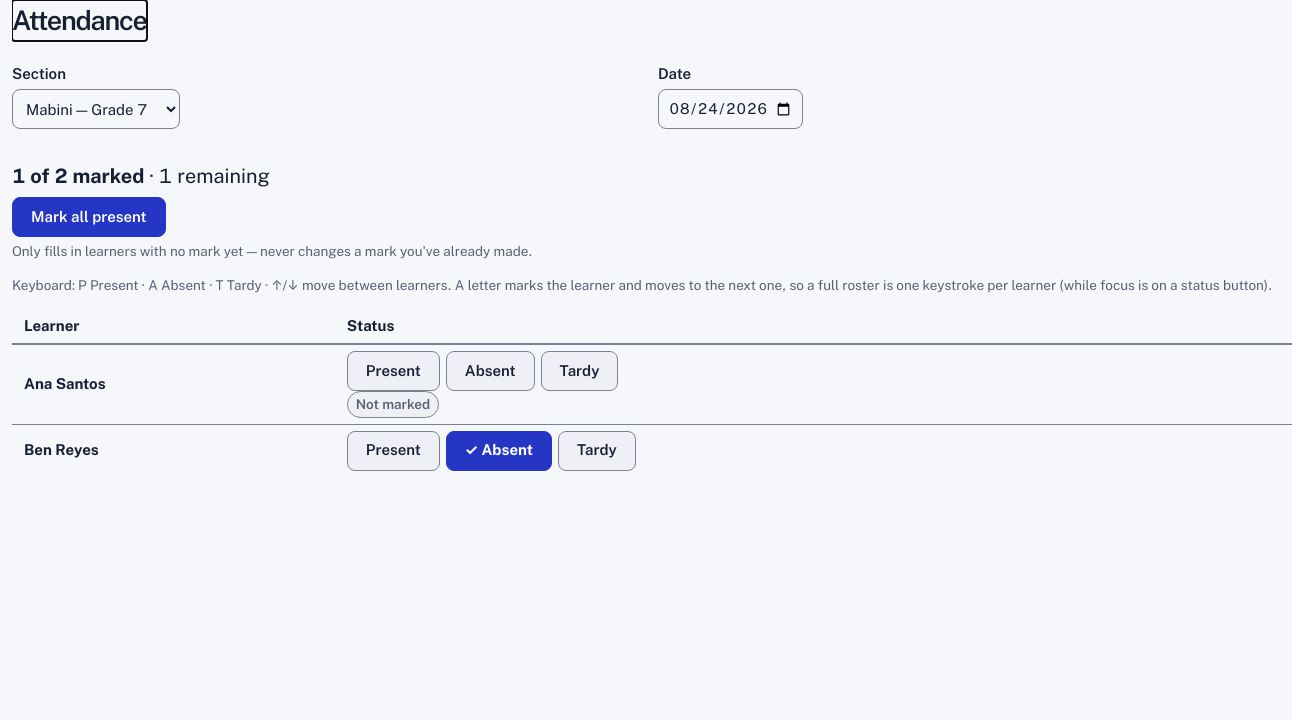
it: AttendanceScreen › marks all unmarked learners present without touching an existing mark
Expected: the column heading "Ana Santos" is shown, [12, 344, 335, 424]
Click the button "Mark all present" at (89, 217), box [12, 197, 166, 237]
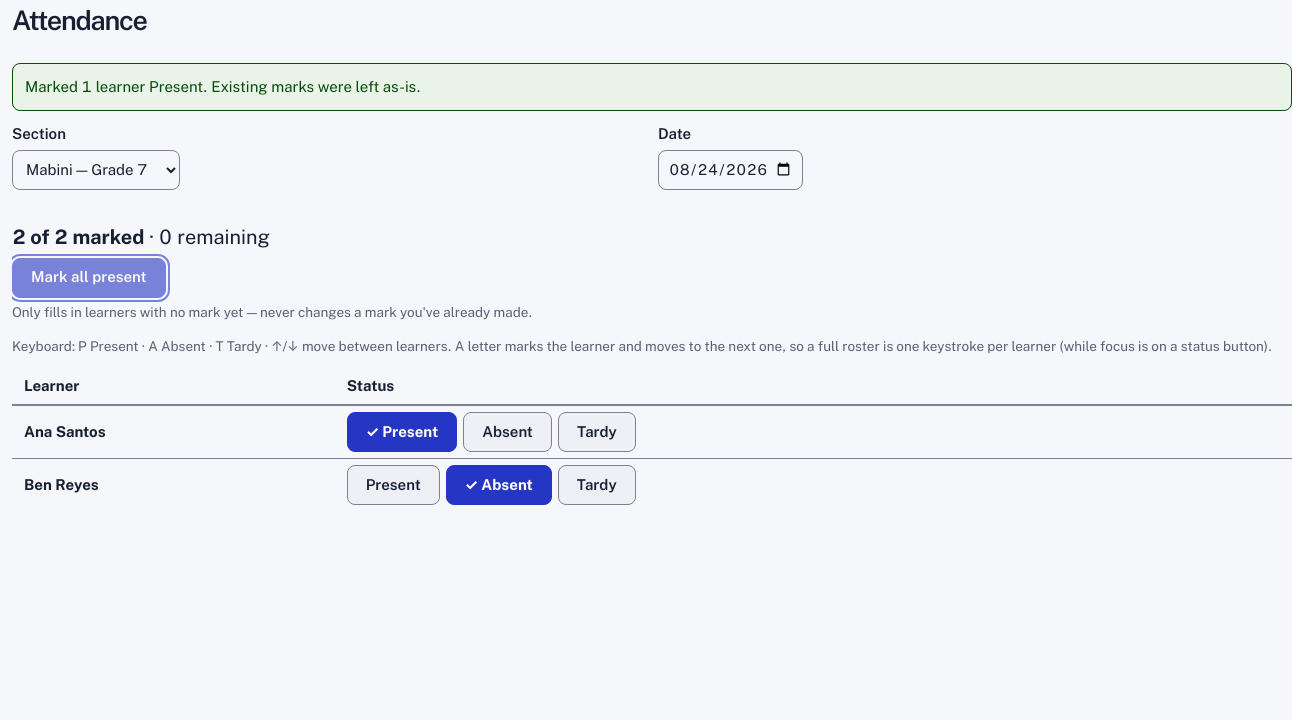
Result: the message shows "Marked 1 learner Present" at [25, 78, 421, 95]
